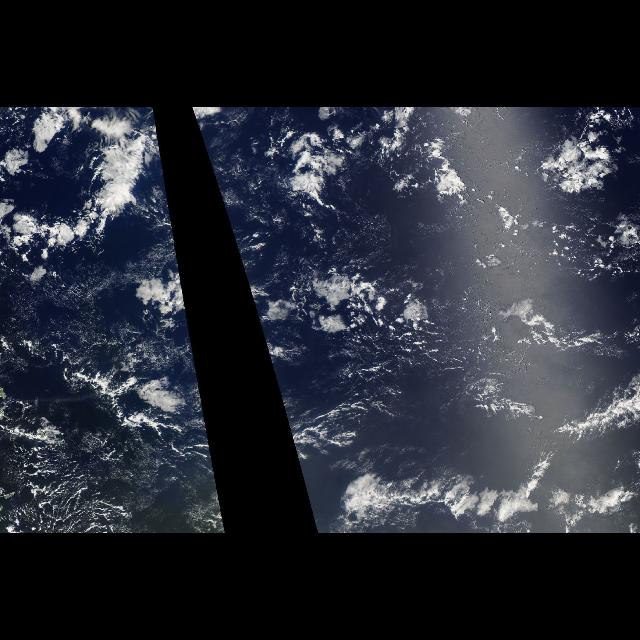Fish: (89, 109, 163, 259)
Flower: (526, 127, 628, 210)
Gravel: (7, 284, 224, 532), (302, 286, 636, 446), (248, 284, 274, 374)
Sugar: (342, 196, 448, 280), (206, 120, 284, 230), (58, 262, 134, 364)
